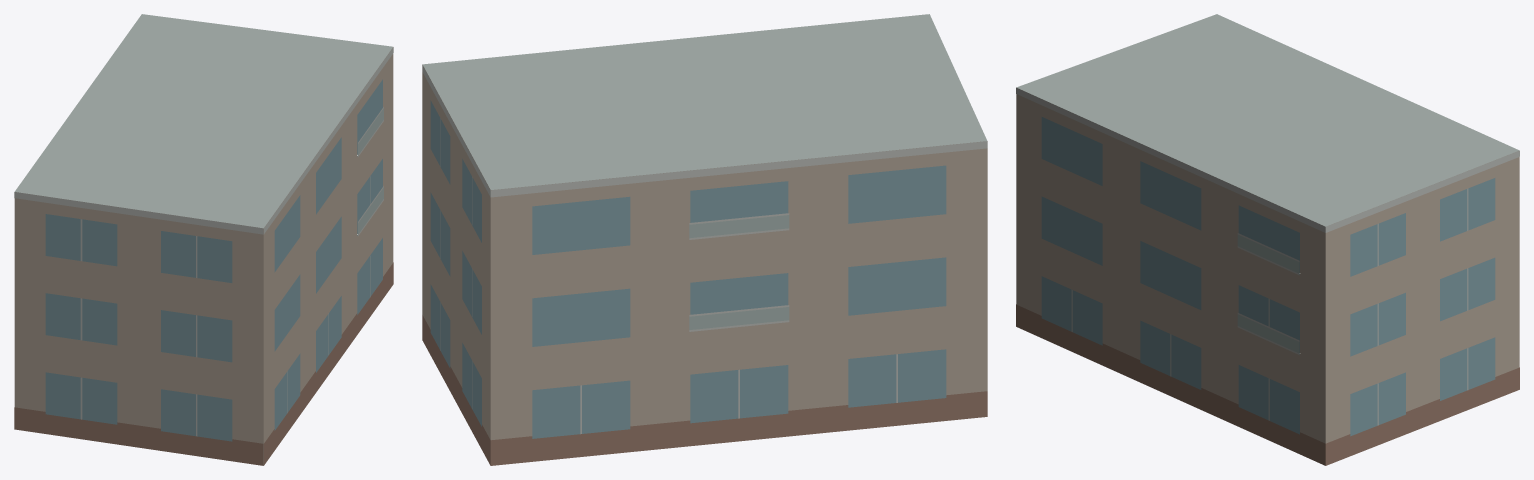
The model's file is survey-upis-32907200.glb.
3 renders of one model, left to right at view 1: azimuth 30°, elevation 25°; view 2: azimuth 150°, elevation 25°; view 3: azimuth 270°, elevation 25°, orthographic. The views are drawn at different scales.
Parts seen in each view (by area): view 1: survey-upis-32907200.tmp; view 2: survey-upis-32907200.tmp; view 3: survey-upis-32907200.tmp.
Boxes of the visible parts, box(x1,y1,x2,y2) form: survey-upis-32907200.tmp: box(14, 14, 393, 465); survey-upis-32907200.tmp: box(422, 14, 987, 465); survey-upis-32907200.tmp: box(1016, 14, 1519, 465).
Size of the model in its own units: 17.46 by 9.15 by 17.46.
